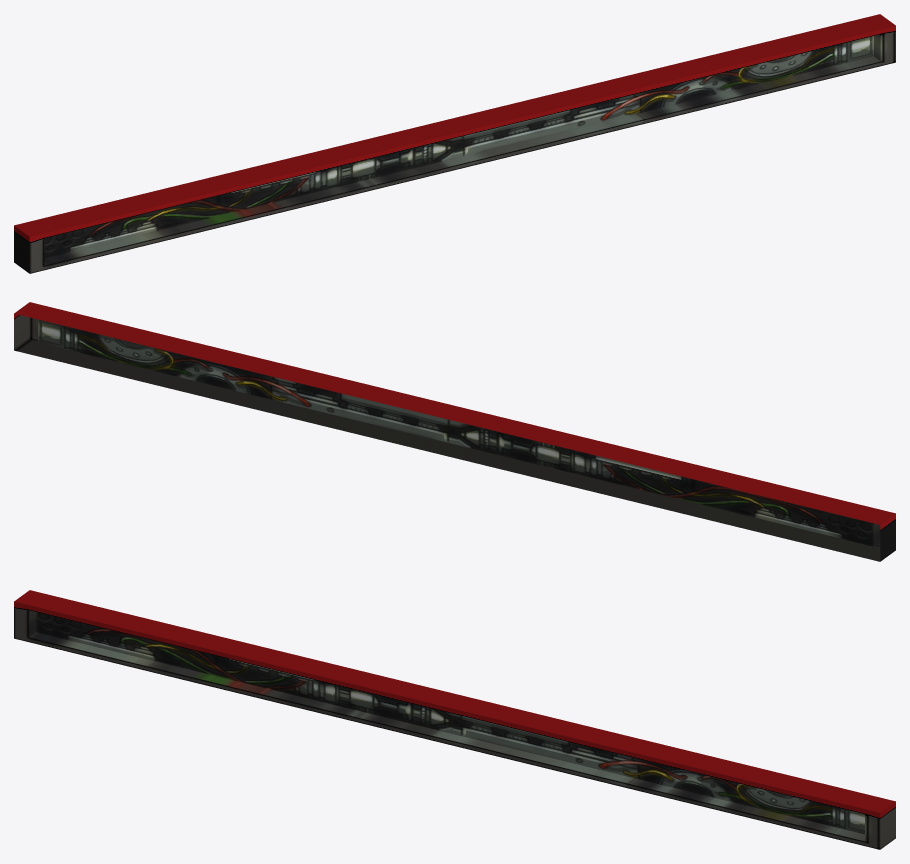
Rendered from JUMP_NONE.fbx.
The picture shows the model from 3 angles, top to bottom: view 1: azimuth 30°, elevation 25°; view 2: azimuth 150°, elevation 25°; view 3: azimuth 330°, elevation 25°; orthographic projection.
Parts seen in each view (by area): view 1: JumpWall:polySurface1; view 2: JumpWall:polySurface1; view 3: JumpWall:polySurface1.
Part boxes in pixels (<box>): JumpWall:polySurface1: <box>14,14,895,273</box>; JumpWall:polySurface1: <box>14,302,895,561</box>; JumpWall:polySurface1: <box>14,590,895,849</box>.
Bounding box in the file's own units: 40.28 × 1.64 × 1.27.
Materials: 1 (1 with a texture image).
